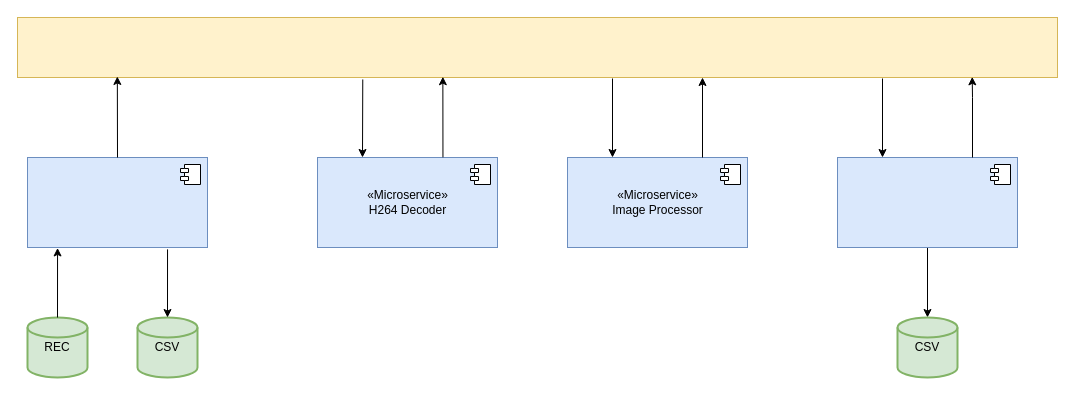
Some shapes in this 1075 by 396 pixel diagram are drawn without their labels. Here are the shapes that lost their labels. From the top down, the centre of each, then its label:
point 537,47: Shared Memory
point 117,202: «Microservice» OpenDLV
point 927,202: «Microservice» Steering Angle Calculator
